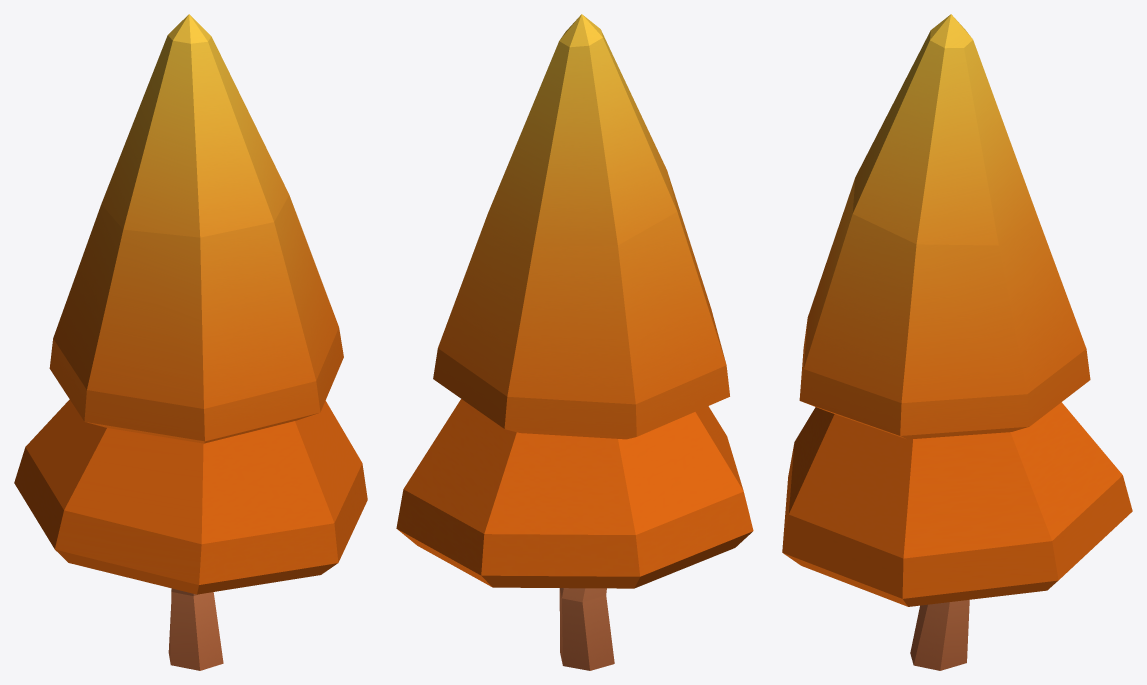
Rendered from Tree8.fbx.
3 renders of one model, left to right at view 1: azimuth 30°, elevation 25°; view 2: azimuth 150°, elevation 25°; view 3: azimuth 270°, elevation 25°, orthographic.
Visible parts, largest first — view 1: tree_D1; view 2: tree_D1; view 3: tree_D1.
Boxes of the visible parts, <box> form: tree_D1: <box>14,14,367,670</box>; tree_D1: <box>396,14,753,670</box>; tree_D1: <box>782,14,1132,670</box>.
Bounding box in the file's own units: 90.9 × 181 × 89.52.
